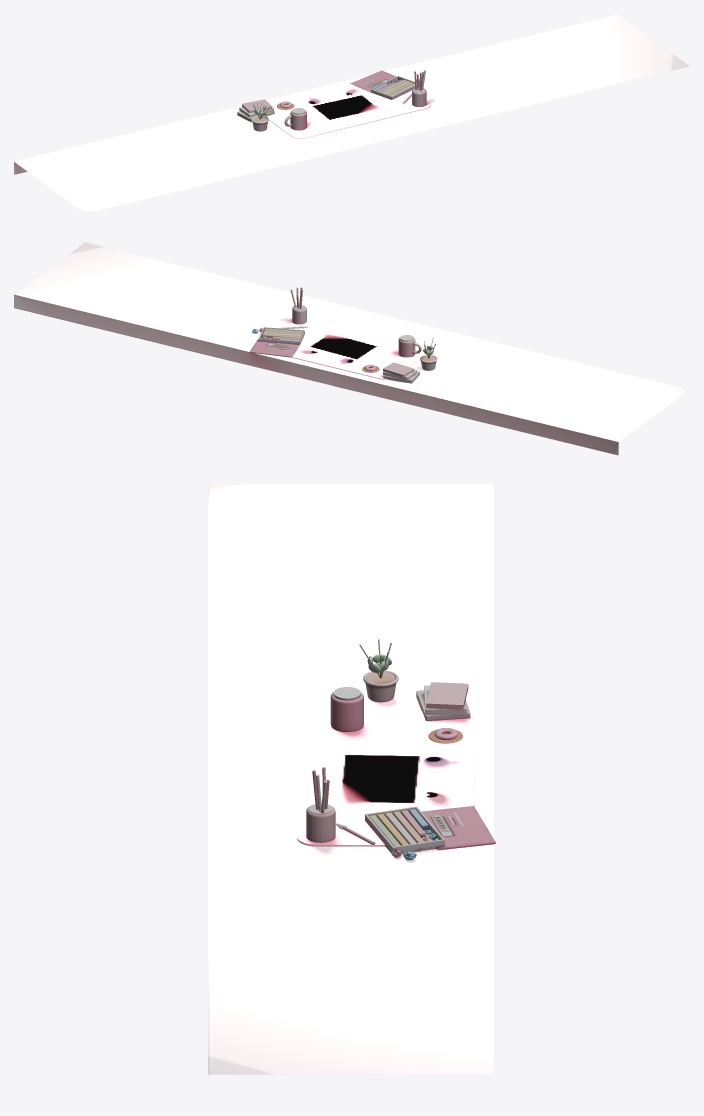
File: desk.glb
3 renders of one model, top to bottom at view 1: azimuth 30°, elevation 25°; view 2: azimuth 150°, elevation 25°; view 3: azimuth 270°, elevation 25°, orthographic. The views are drawn at different scales.
Parts seen in each view (by area): view 1: DeskSurface, DeskBaked; view 2: DeskSurface, DeskBaked; view 3: DeskSurface, DeskBaked.
Boxes of the visible parts, bbox=[...] form: DeskSurface: bbox=[14, 14, 689, 213]; DeskBaked: bbox=[237, 70, 426, 131]; DeskSurface: bbox=[14, 242, 689, 455]; DeskBaked: bbox=[249, 287, 437, 383]; DeskSurface: bbox=[208, 484, 493, 1074]; DeskBaked: bbox=[306, 639, 495, 859].
Size of the model in its own units: 29.06 by 2.16 by 5.99.
3 materials, 1 textured.
